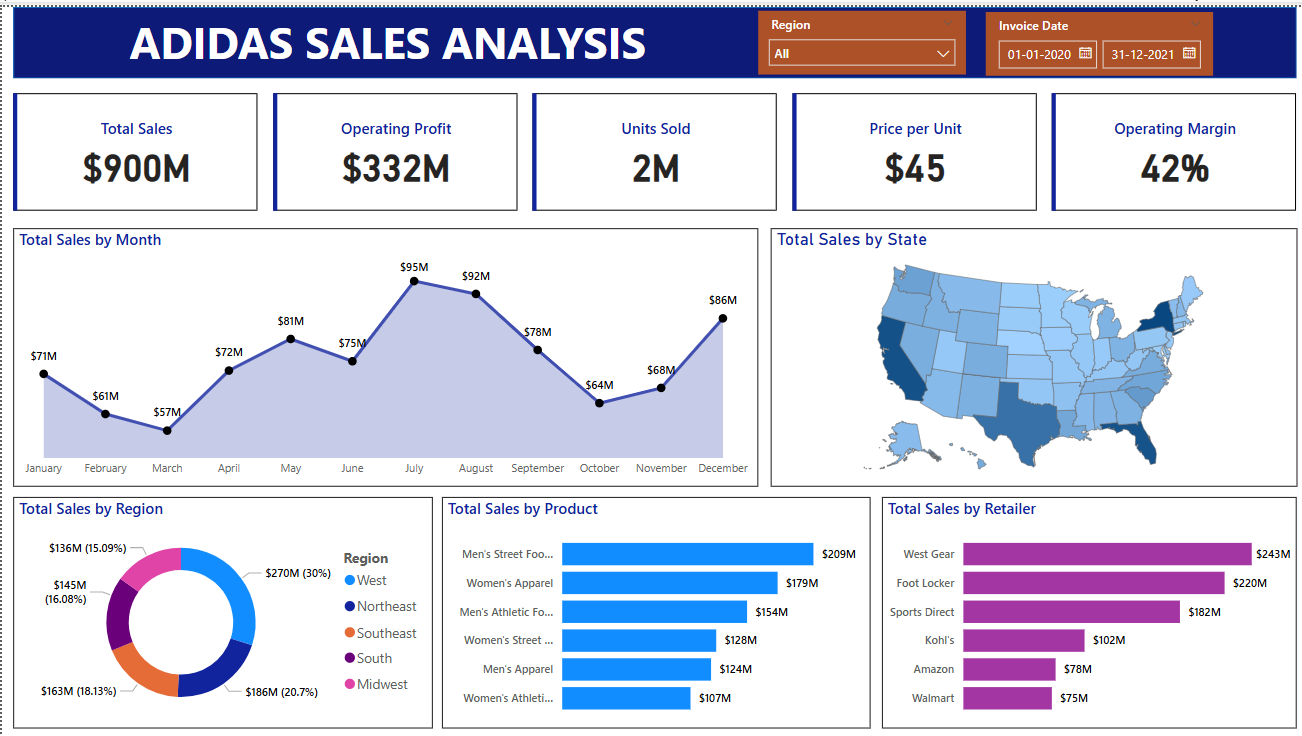

This screenshot's page, from the dashboard's own definition file:
{"tool":"powerbi","page":{"name":"Page 1","canvas":[1280,720],"ordinal":0},"visuals":[{"type":"shape","box":[11,0,1255.6,70],"z":0},{"type":"textbox","box":[119.4,0,529.7,71.4],"z":1000},{"type":"cardVisual","fields":{"Data":["Sum(Data Sales Adidas.Total Sales)","Sum(Data Sales Adidas.Operating Profit)","Sum(Data Sales Adidas.Units Sold)","Avg(Data Sales Adidas.Price per Unit)","Avg(Data Sales Adidas.Operating Margin)"]},"box":[6.1,79.5,1266.9,126],"z":2000},{"type":"areaChart","title":"Total Sales by Month","fields":{"Category":["Data Sales Adidas.Invoice Date.Variation.Date Hierarchy.Month"],"Y":["Sum(Data Sales Adidas.Total Sales)"]},"box":[11,216.4,728.8,253.1],"z":3000},{"type":"shapeMap","title":"Total Sales by State","fields":{"Category":["Data Sales Adidas.State"],"Value":["Sum(Data Sales Adidas.Total Sales)"]},"box":[752,216.4,514.8,253.1],"z":4000},{"type":"donutChart","title":"Total Sales by Region","fields":{"Category":["Data Sales Adidas.Region"],"Y":["Sum(Data Sales Adidas.Total Sales)"]},"box":[11,479.4,410,226],"z":5000},{"type":"barChart","title":"Total Sales by Product","fields":{"Category":["Data Sales Adidas.Product"],"Y":["Sum(Data Sales Adidas.Total Sales)"]},"box":[430.4,479.4,419.4,226.2],"z":6000},{"type":"barChart","title":"Total Sales by Retailer","fields":{"Category":["Data Sales Adidas.Retailer"],"Y":["Sum(Data Sales Adidas.Total Sales)"]},"box":[860.9,479.4,406,226.2],"z":7000},{"type":"slicer","fields":{"Values":["Data Sales Adidas.Region"]},"box":[739.8,3.7,203,62.4],"z":8000},{"type":"slicer","fields":{"Values":["Data Sales Adidas.Invoice Date"]},"box":[962.4,4.9,222.6,62.4],"z":9000}]}

Visuals, with their boxes in screenshot pixels (x1, y1, x2, y2), scaled from the page's 1280x720 canvas onto the 1302x736 screenshot:
shape: bbox=(11, 0, 1288, 72)
textbox: bbox=(121, 0, 660, 73)
cardVisual - Sum(Data Sales Adidas.Total Sales) x Sum(Data Sales Adidas.Operating Profit): bbox=(6, 81, 1295, 210)
"Total Sales by Month" areaChart: bbox=(11, 221, 753, 480)
"Total Sales by State" shapeMap: bbox=(765, 221, 1289, 480)
"Total Sales by Region" donutChart: bbox=(11, 490, 428, 721)
"Total Sales by Product" barChart: bbox=(438, 490, 864, 721)
"Total Sales by Retailer" barChart: bbox=(876, 490, 1289, 721)
slicer - Data Sales Adidas.Region: bbox=(753, 4, 959, 68)
slicer - Data Sales Adidas.Invoice Date: bbox=(979, 5, 1205, 69)
